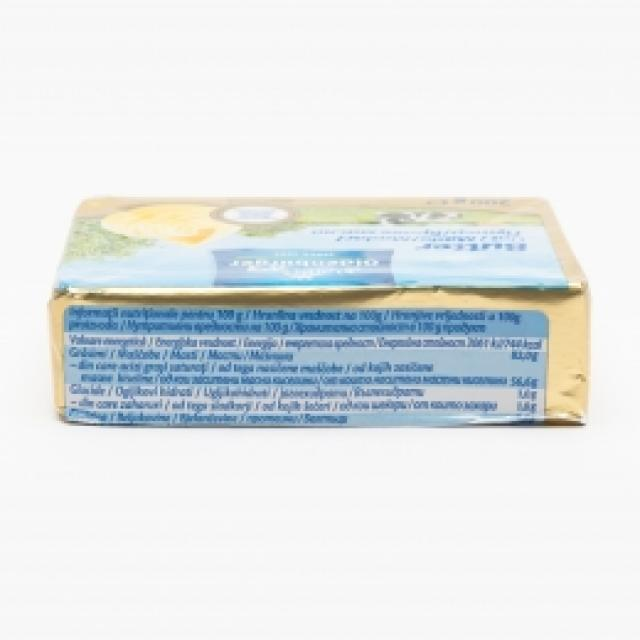butter: (49, 190, 591, 428)
